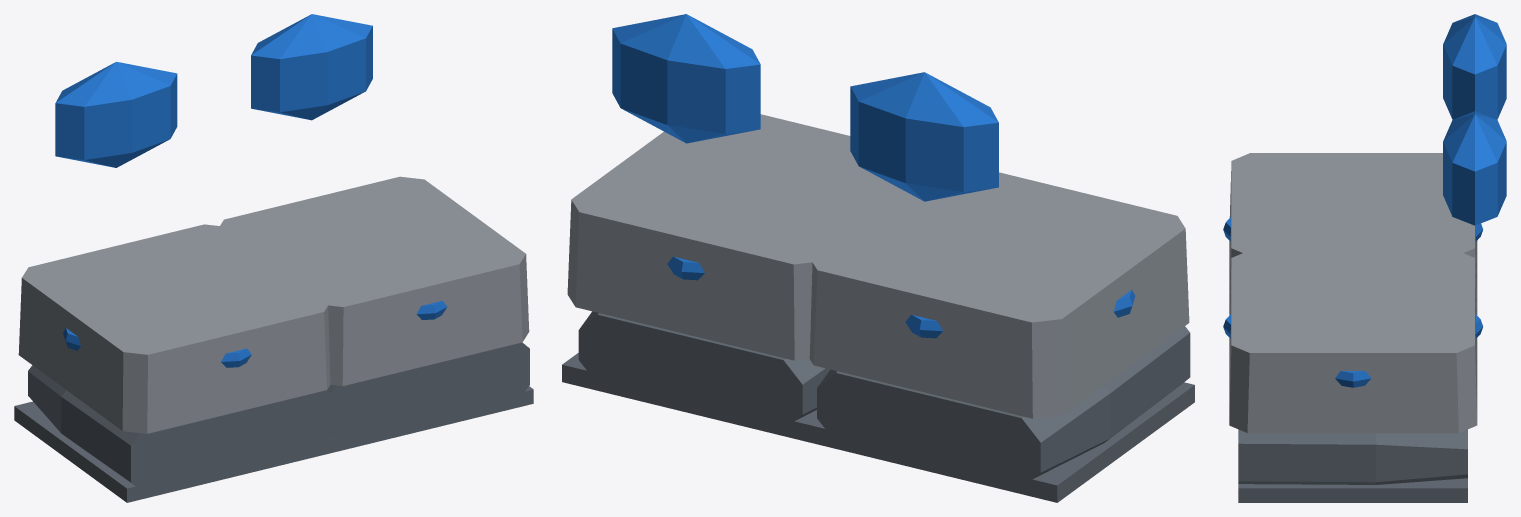
The model's file is shoes_dualblade_s5.fbx.
3 renders of one model, left to right at view 1: azimuth 30°, elevation 25°; view 2: azimuth 150°, elevation 25°; view 3: azimuth 270°, elevation 25°, orthographic. The views are drawn at different scales.
Parts seen in each view (by area): view 1: Greave_L_Body, Greave_R_Body, Boot_L_Inner, Boot_R_Inner, Greave_L_Band, Greave_R_Band; view 2: Greave_L_Body, Greave_R_Body, Boot_L_Inner, Boot_R_Inner, Greave_L_Band, Greave_R_Band; view 3: Greave_R_Body, Greave_L_Body, Boot_R_Inner, Greave_R_Band, Greave_L_Band.
Part boxes in pixels (x1,y1,x2,y2): Greave_L_Body: (18, 224, 330, 433); Greave_R_Body: (220, 176, 529, 386); Boot_L_Inner: (14, 365, 338, 502); Boot_R_Inner: (326, 342, 533, 451); Greave_L_Band: (55, 61, 251, 367); Greave_R_Band: (251, 14, 447, 319); Greave_L_Body: (809, 172, 1189, 418); Greave_R_Body: (567, 114, 911, 360); Boot_L_Inner: (811, 326, 1194, 502); Boot_R_Inner: (562, 311, 830, 444); Greave_L_Band: (850, 72, 1135, 338); Greave_R_Band: (612, 14, 760, 280); Greave_R_Body: (1229, 250, 1477, 433); Greave_L_Body: (1229, 153, 1477, 315); Boot_R_Inner: (1238, 429, 1467, 502); Greave_R_Band: (1223, 111, 1506, 387); Greave_L_Band: (1223, 14, 1506, 241).
Size of the model in its own units: 213 by 162 by 123.
